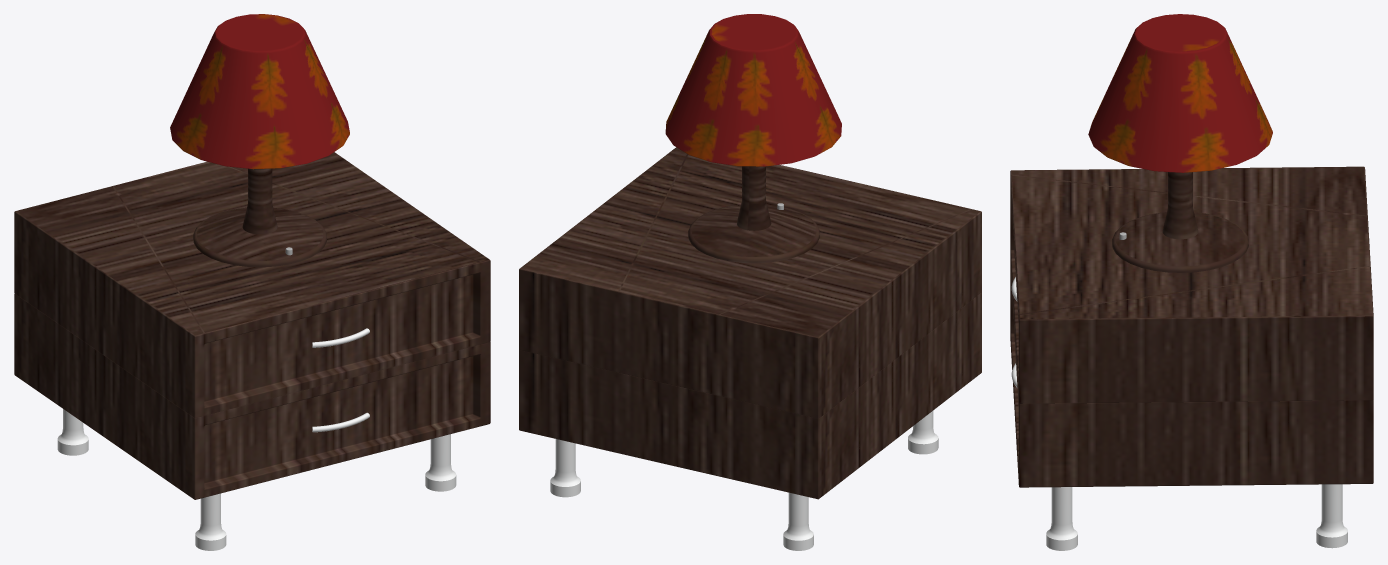
The picture shows the model from 3 angles, left to right: view 1: azimuth 30°, elevation 25°; view 2: azimuth 150°, elevation 25°; view 3: azimuth 270°, elevation 25°; orthographic projection. The views are drawn at different scales.
Parts seen in each view (by area): view 1: pCube28, pCube93, pCone1, pCylinder26, pCylinder21, pCylinder20, pCylinder23; view 2: pCube28, pCube93, pCone1, pCylinder26, pCylinder22, pCylinder23, pCylinder20; view 3: pCube28, pCube93, pCone1, pCylinder26, pCylinder22, pCylinder21.
Part boxes in pixels (x1,y1,x2,y2): pCube28: (14, 152, 490, 417); pCube93: (14, 293, 490, 499); pCone1: (170, 14, 349, 169); pCylinder26: (193, 168, 326, 267); pCylinder21: (425, 434, 456, 491); pCylinder20: (195, 493, 226, 550); pCylinder23: (57, 409, 88, 455); pCube28: (519, 147, 981, 418); pCube93: (519, 292, 981, 499); pCone1: (665, 14, 841, 166); pCylinder26: (688, 166, 819, 263); pCylinder22: (550, 439, 580, 497); pCylinder23: (783, 492, 813, 550); pCylinder20: (908, 411, 938, 454); pCube28: (1010, 166, 1373, 403); pCube93: (1010, 258, 1373, 487); pCone1: (1088, 14, 1272, 172); pCylinder26: (1112, 172, 1248, 272); pCylinder22: (1316, 484, 1347, 548); pCylinder21: (1046, 487, 1077, 550).
Size of the model in its own units: 1.11 by 1.52 by 1.11.
5 materials, 5 textured.
